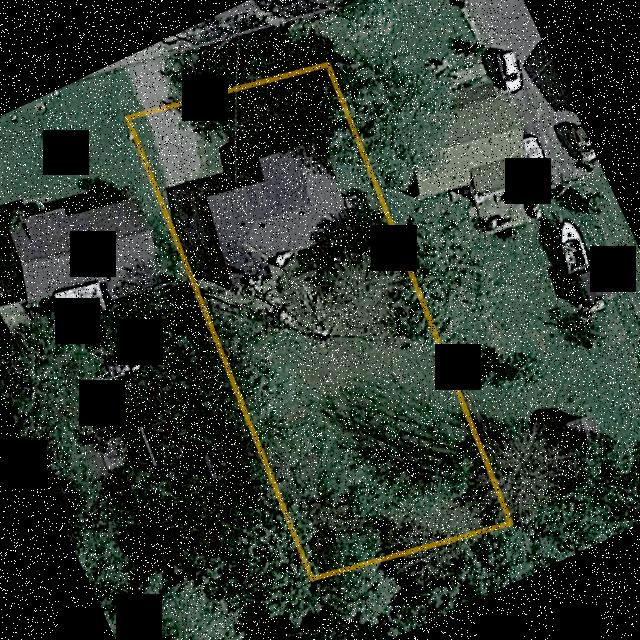Driveway: (148, 104, 210, 186)
Extra Driveway: (126, 57, 174, 111)
House: (206, 149, 355, 280)
